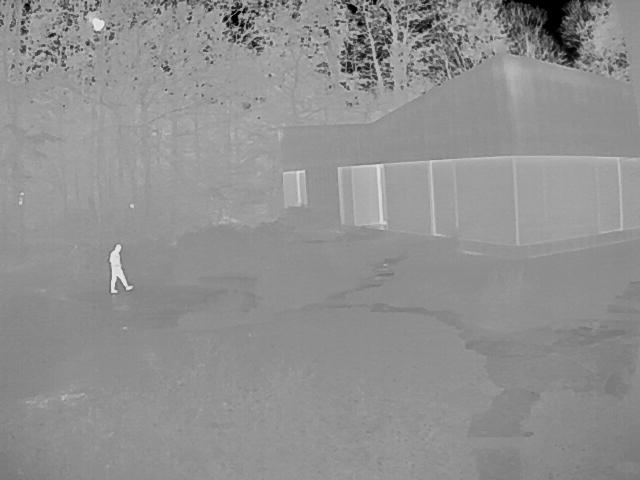person: (109, 243, 135, 294)
